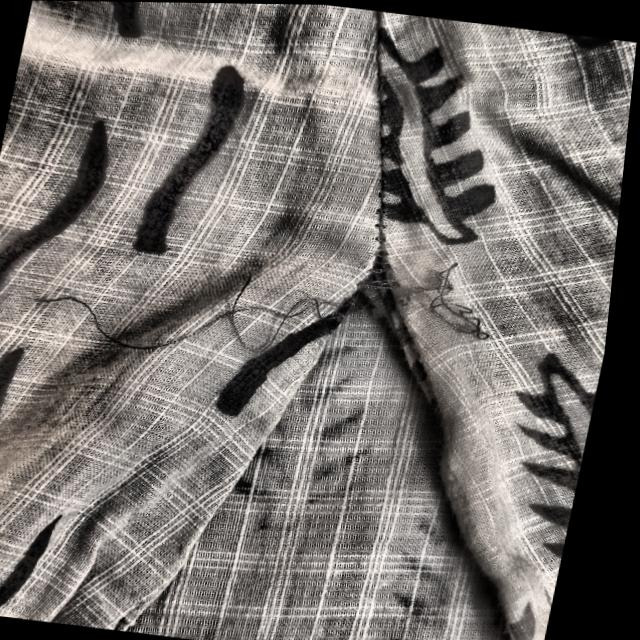Stitch: (0, 197, 541, 419)
